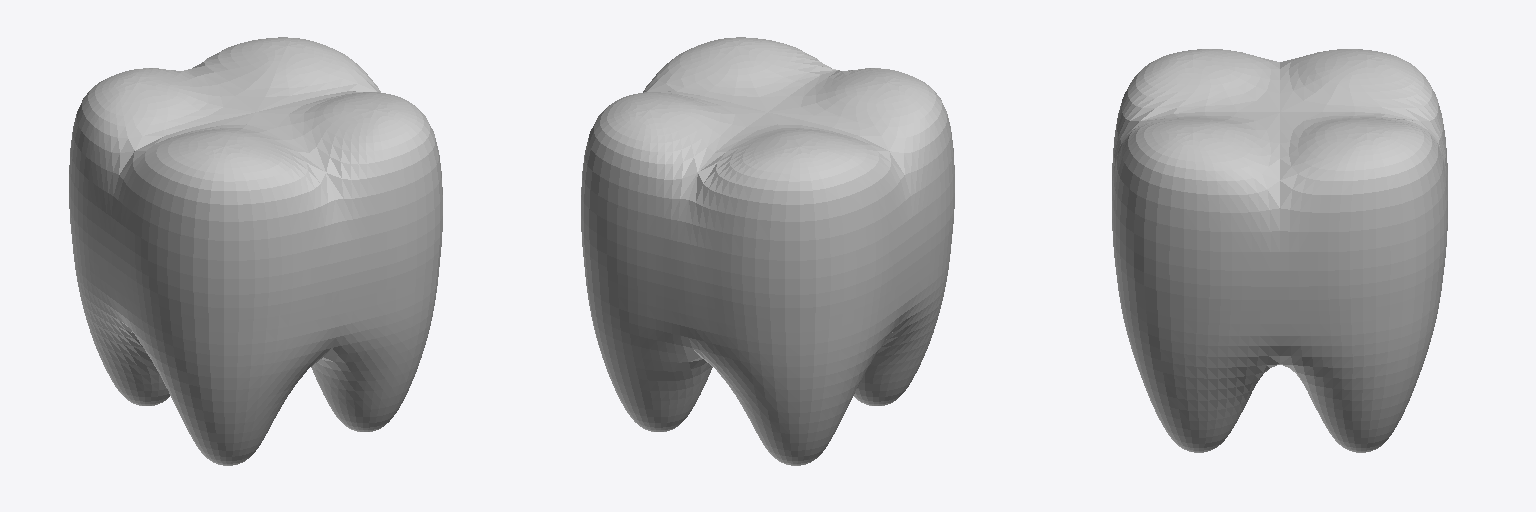
File: tooth.obj
The picture shows the model from 3 angles: view 1: azimuth 30°, elevation 25°; view 2: azimuth 150°, elevation 25°; view 3: azimuth 270°, elevation 25°; orthographic projection.
Parts seen in each view (by area): view 1: Tooth_crown_Circle.002; view 2: Tooth_crown_Circle.002; view 3: Tooth_crown_Circle.002.
Part boxes in pixels (left/top/right/bottom): Tooth_crown_Circle.002: left=69, top=37, right=442, bottom=465; Tooth_crown_Circle.002: left=581, top=37, right=954, bottom=465; Tooth_crown_Circle.002: left=1112, top=49, right=1447, bottom=452.
Size of the model in its own units: 10.86 by 11.41 by 10.91.